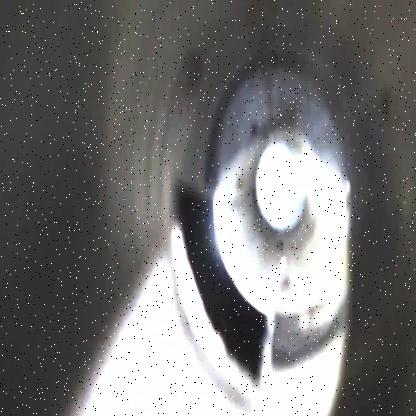Crack2: (169, 178, 274, 384)
